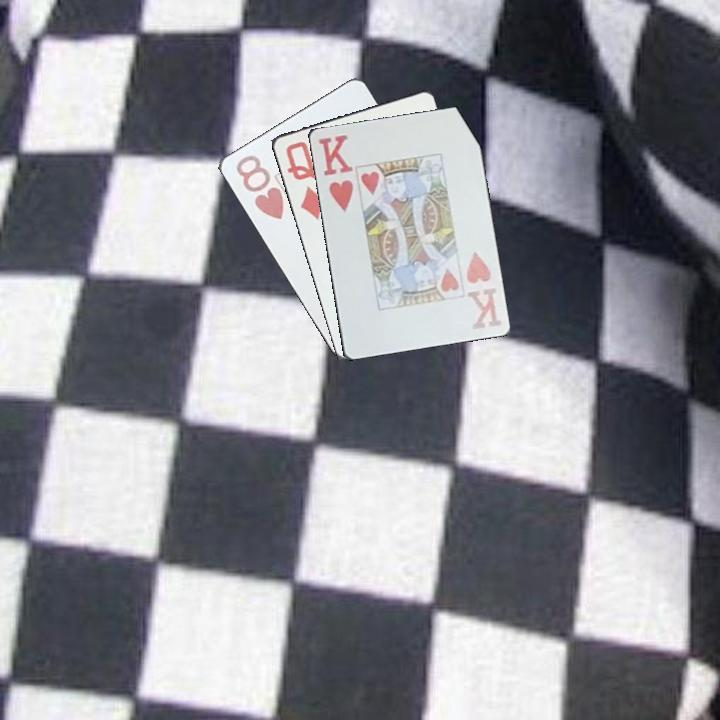8h: (232, 151, 286, 222)
Kh: (462, 248, 504, 332), (315, 131, 356, 215)
Qd: (282, 138, 328, 222)
